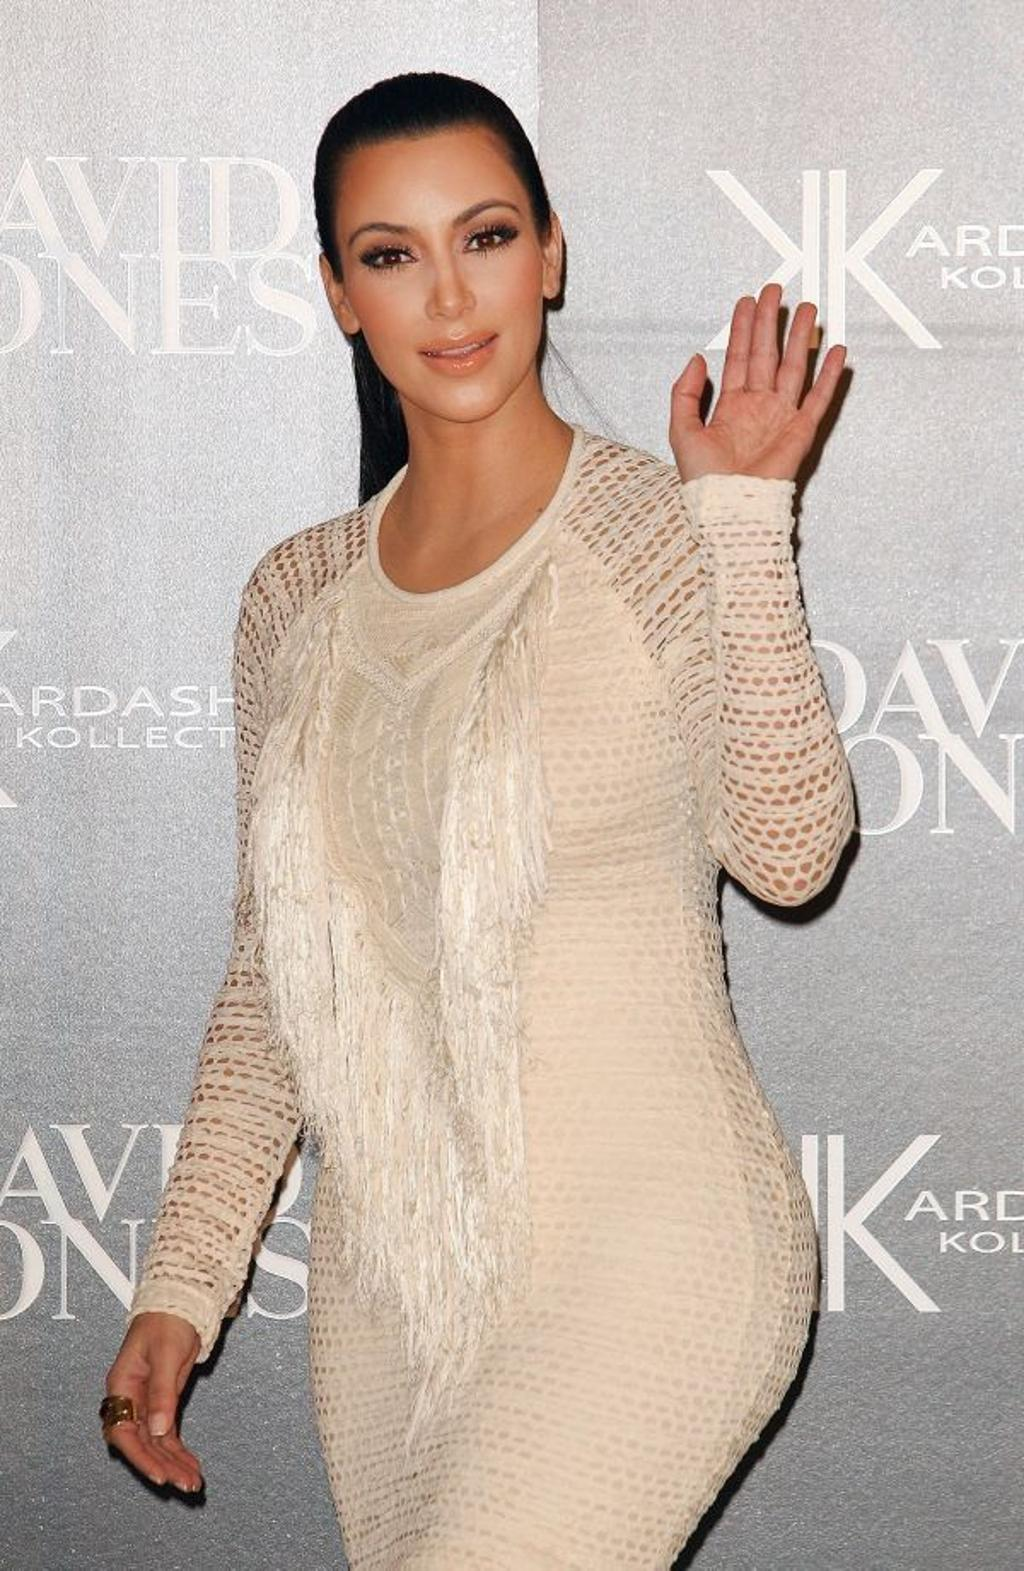face: (335, 136, 543, 424)
